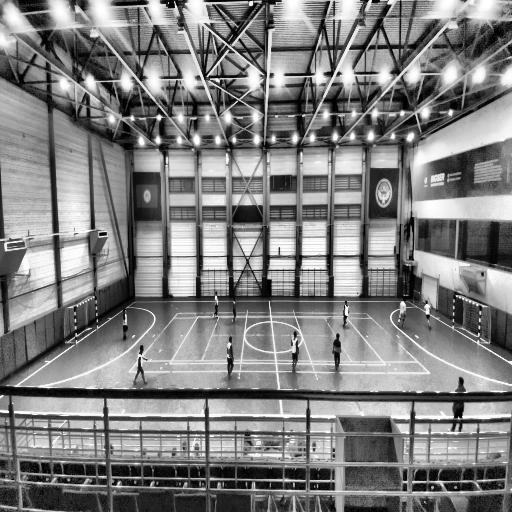ball: (356, 290, 359, 296)
player: (448, 388, 467, 432), (132, 344, 148, 390), (290, 329, 300, 375), (332, 332, 342, 372), (397, 297, 407, 330), (227, 336, 234, 380), (424, 299, 432, 332), (122, 306, 129, 342), (342, 300, 349, 330), (213, 290, 219, 319), (232, 297, 237, 324)
